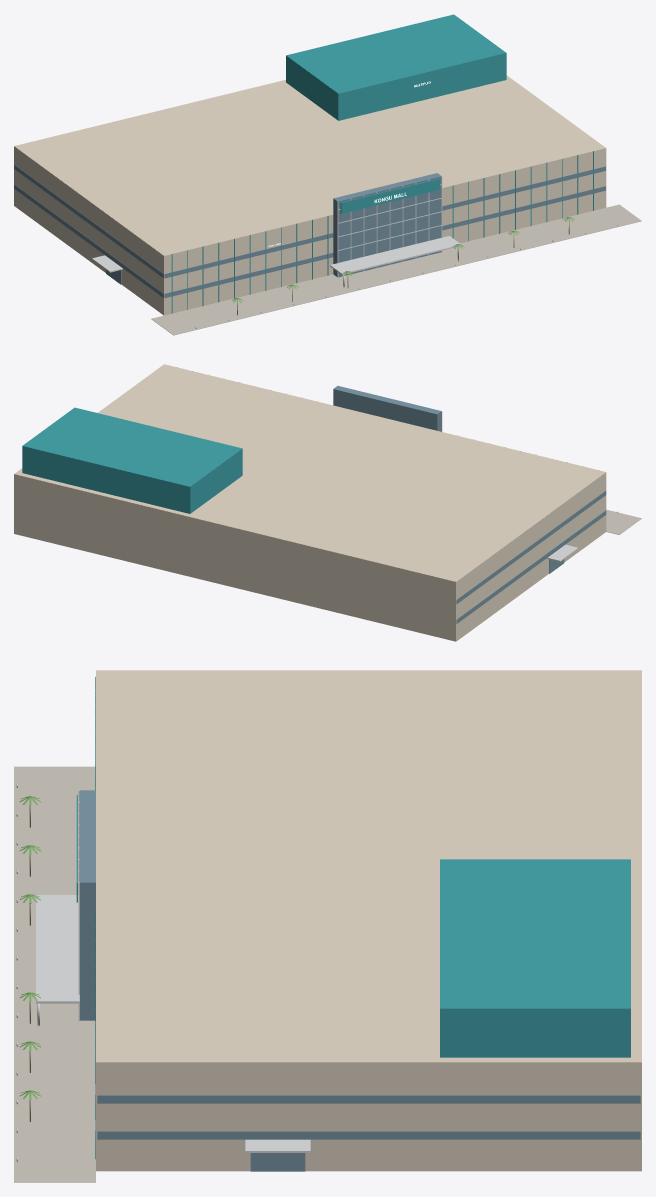
The model's file is mall_sathy_ao.glb.
3 renders of one model, top to bottom at view 1: azimuth 30°, elevation 25°; view 2: azimuth 150°, elevation 25°; view 3: azimuth 270°, elevation 25°, orthographic. The views are drawn at different scales.
Visible parts, largest first — view 1: mall_sathy; view 2: mall_sathy; view 3: mall_sathy.
Part boxes in pixels (x1=…): mall_sathy: x1=14, y1=14, x2=641, y2=335; mall_sathy: x1=14, y1=364, x2=641, y2=641; mall_sathy: x1=14, y1=670, x2=641, y2=1182.
Size of the model in its own units: 180 by 32 by 115.
